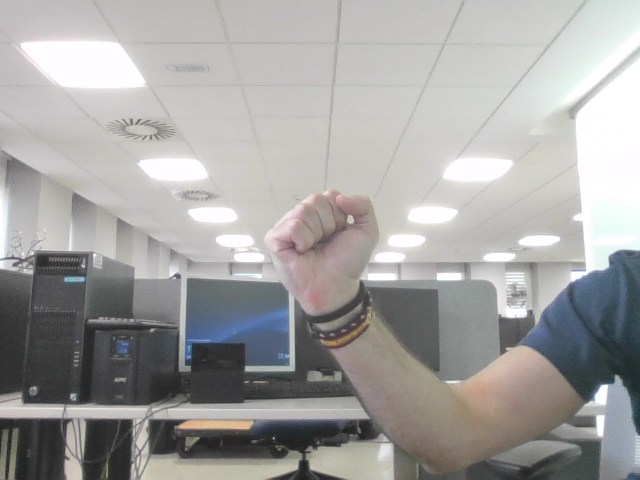Puño: (280, 194, 362, 262)
